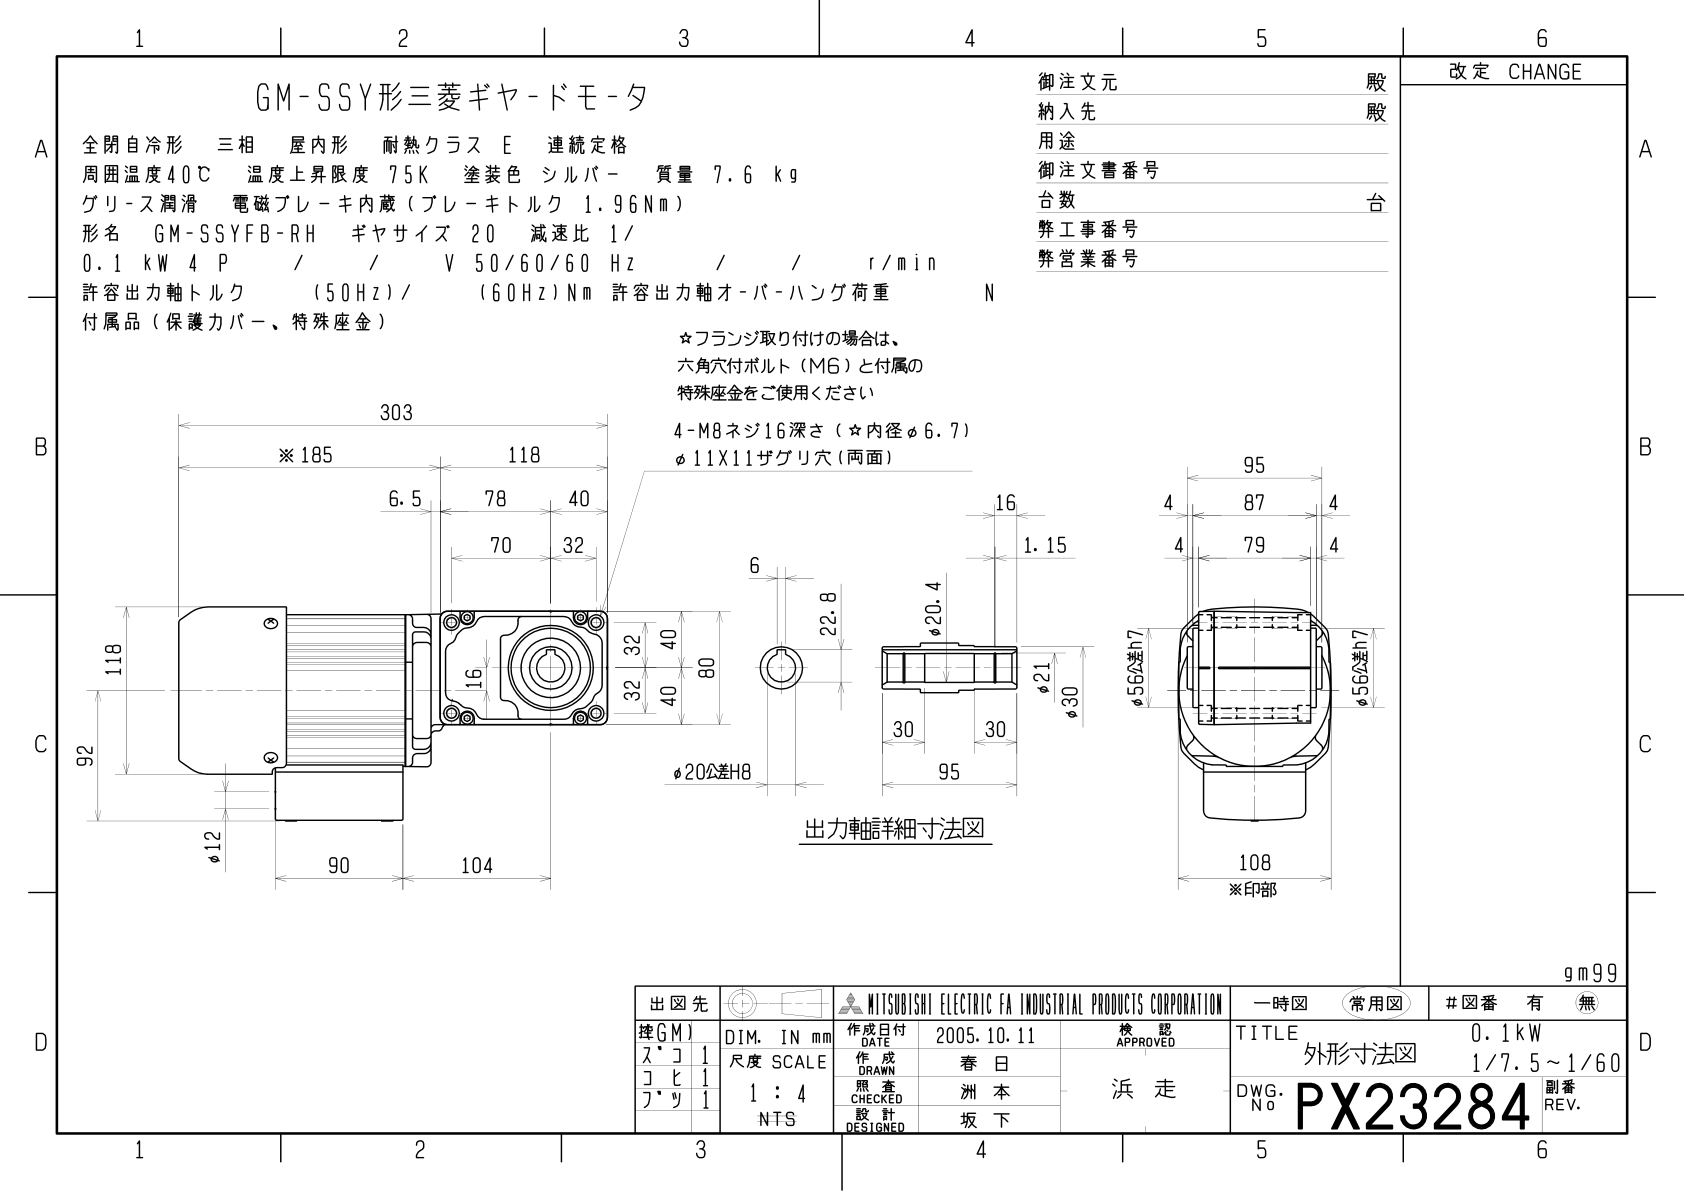GM_SSY_屋内_三相: (1, 1, 1681, 1183)
